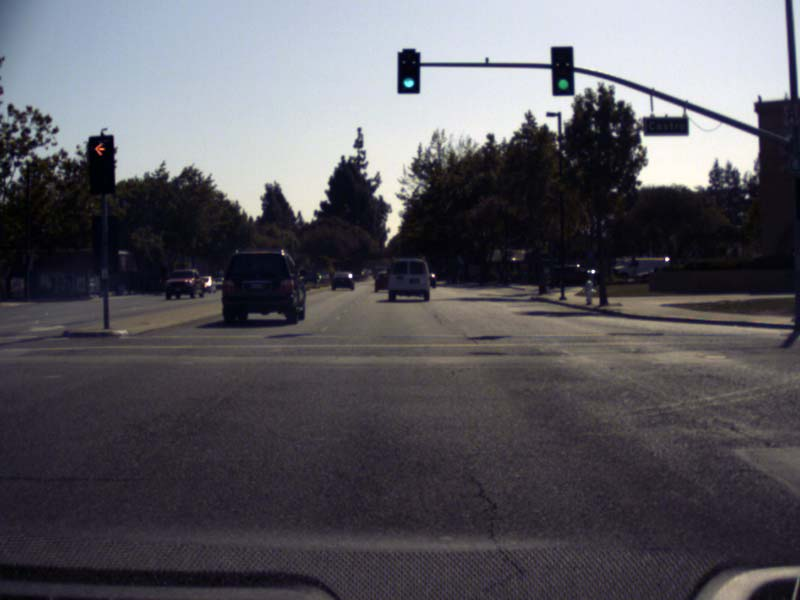Green: (551, 45, 573, 94), (397, 52, 419, 94)
Red: (88, 136, 114, 194)
